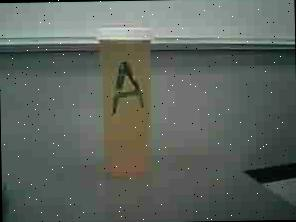Bottle A: (99, 26, 150, 176)
